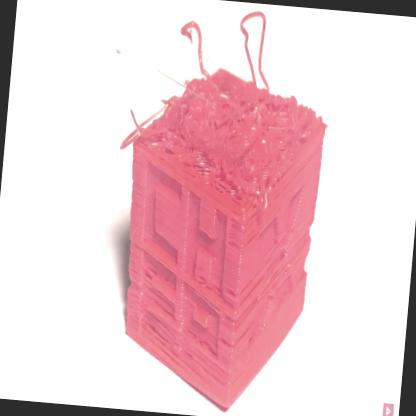fail: (116, 1, 333, 205)
